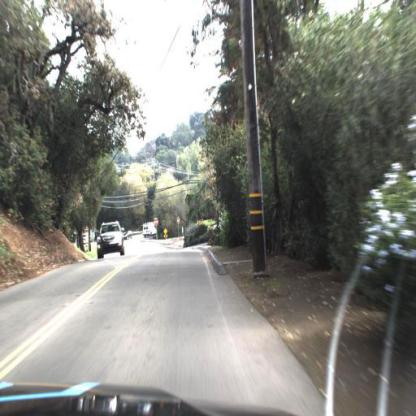car: (92, 219, 127, 261), (96, 218, 127, 259), (144, 223, 160, 239), (124, 227, 137, 245)
